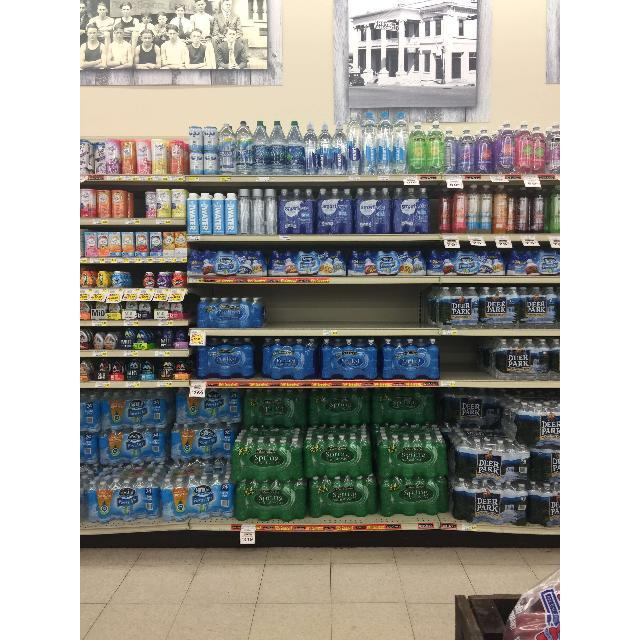empty: (264, 284, 428, 328), (440, 338, 490, 380), (428, 181, 438, 233), (134, 182, 146, 218), (131, 264, 143, 288)
